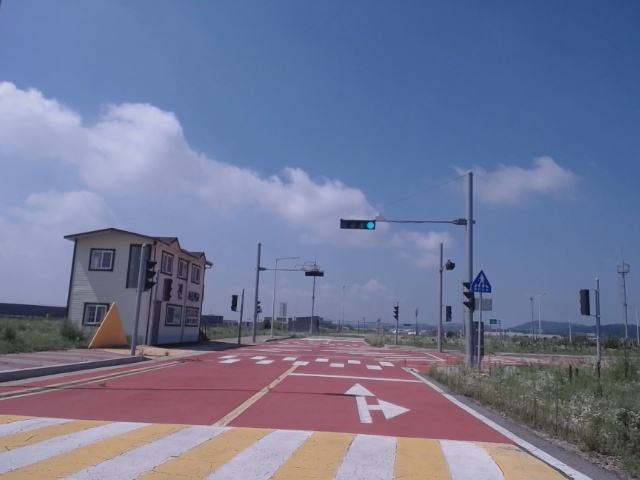straight_green_4: (340, 221, 376, 229)
